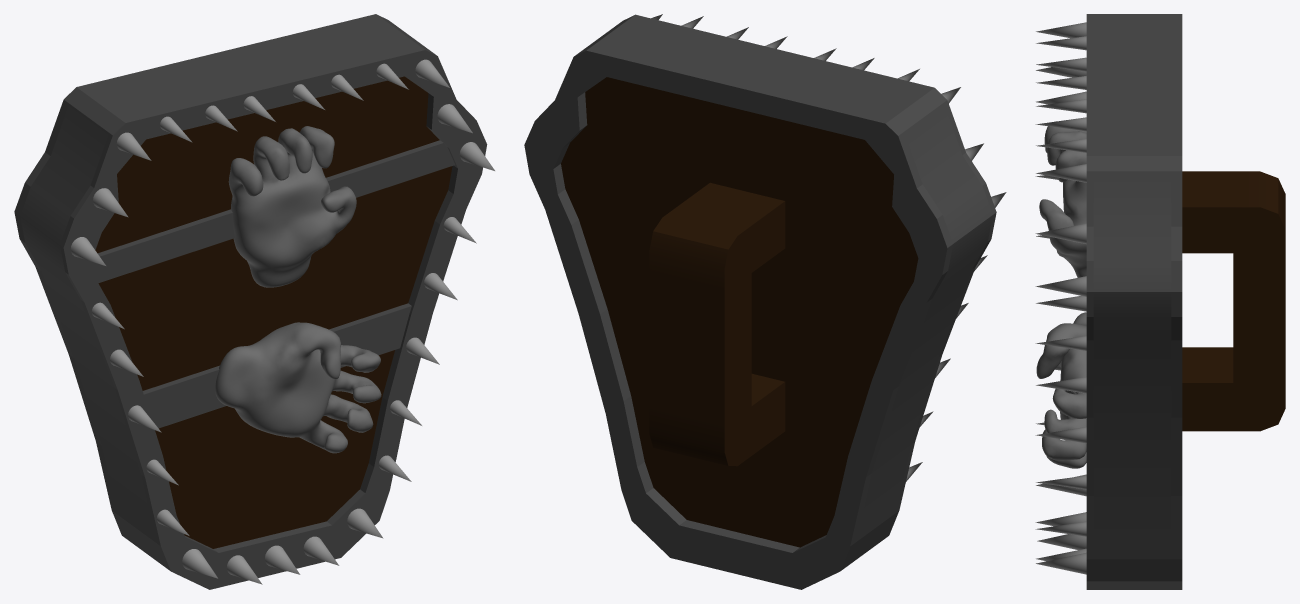
Rendered from BugBear_Shield 1.fbx.
The picture shows the model from 3 angles, left to right: view 1: azimuth 30°, elevation 25°; view 2: azimuth 150°, elevation 25°; view 3: azimuth 270°, elevation 25°; orthographic projection. The views are drawn at different scales.
Visible parts, largest first — view 1: polySurface35; view 2: polySurface35; view 3: polySurface35.
Boxes of the visible parts, x1,y1,x2,y2 form: polySurface35: (14,14,494,589); polySurface35: (524,14,1006,589); polySurface35: (1035,14,1285,589).
Size of the model in its own units: 5.62 by 6.18 by 2.96.
